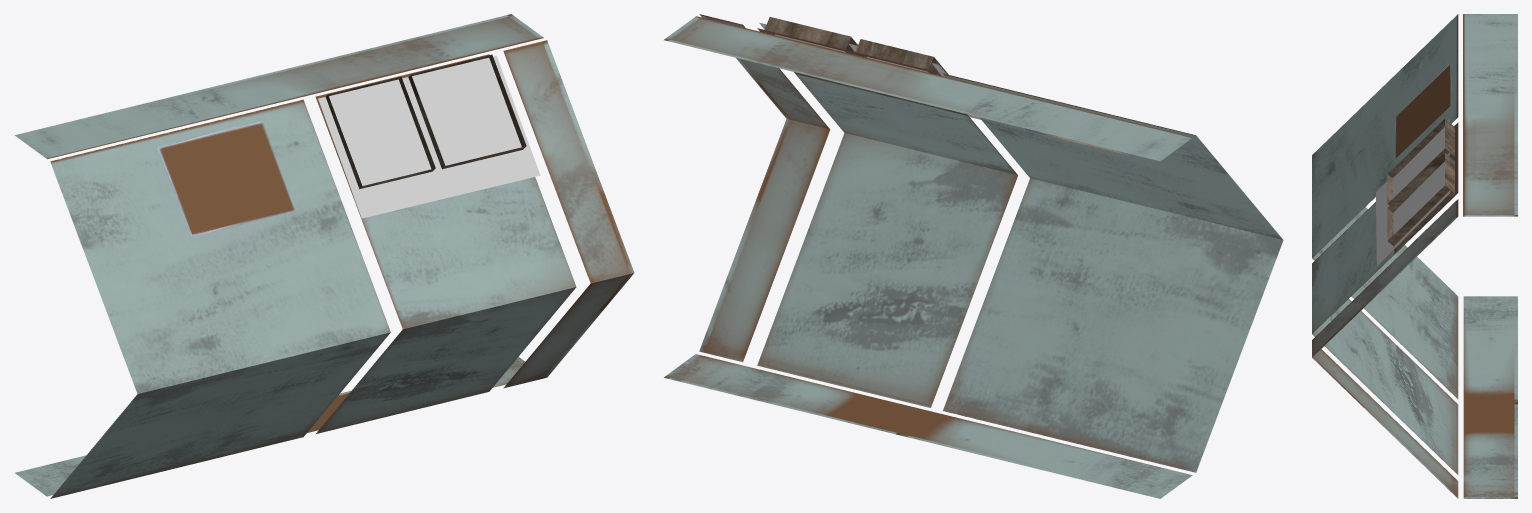
File: HouseWall.obj
3 views of the same model, side by side, from view 1: azimuth 30°, elevation 25°; view 2: azimuth 150°, elevation 25°; view 3: azimuth 270°, elevation 25° (orthographic). The views are drawn at different scales.
Parts seen in each view (by area): view 1: polySurface146.078, polySurface146.044, Plane.001, polySurface146.102, polySurface146.125, polySurface146.081; view 2: polySurface146.078, polySurface146.044, polySurface146.102, polySurface146.081, polySurface146.125; view 3: polySurface146.078, polySurface146.044, polySurface146.102, polySurface146.081, polySurface146.125, Plane.001.
Boxes of the visible parts, x1=… form: polySurface146.078: x1=50, y1=99, x2=390, y2=498; polySurface146.044: x1=315, y1=54, x2=576, y2=433; Plane.001: x1=318, y1=55, x2=540, y2=218; polySurface146.102: x1=15, y1=14, x2=543, y2=159; polySurface146.125: x1=503, y1=40, x2=634, y2=388; polySurface146.081: x1=15, y1=357, x2=524, y2=496; polySurface146.078: x1=943, y1=73, x2=1283, y2=472; polySurface146.044: x1=757, y1=17, x2=1017, y2=407; polySurface146.102: x1=664, y1=16, x2=1192, y2=161; polySurface146.081: x1=664, y1=354, x2=1192, y2=498; polySurface146.125: x1=699, y1=14, x2=830, y2=362; polySurface146.078: x1=1312, y1=14, x2=1458, y2=399; polySurface146.044: x1=1312, y1=119, x2=1458, y2=474; polySurface146.102: x1=1463, y1=14, x2=1517, y2=216; polySurface146.081: x1=1463, y1=296, x2=1517, y2=498; polySurface146.125: x1=1312, y1=199, x2=1458, y2=498; Plane.001: x1=1376, y1=119, x2=1450, y2=265.
Size of the model in its own units: 39.01 by 25.82 by 16.73.
2 materials, 1 textured.
